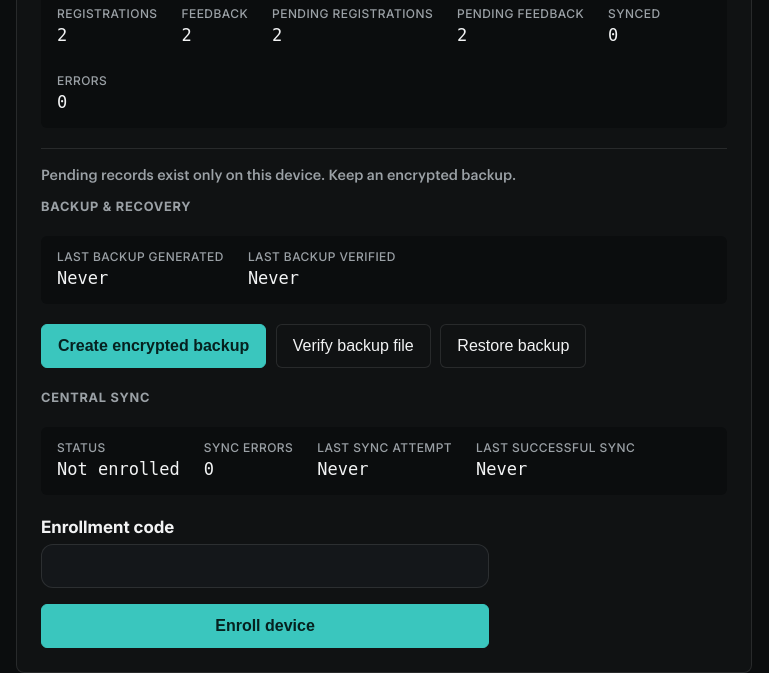
creating a backup › generates a file and records the time
(page scrolled)
Click the button "Create encrypted backup": (154, 346) [41,324,266,368]
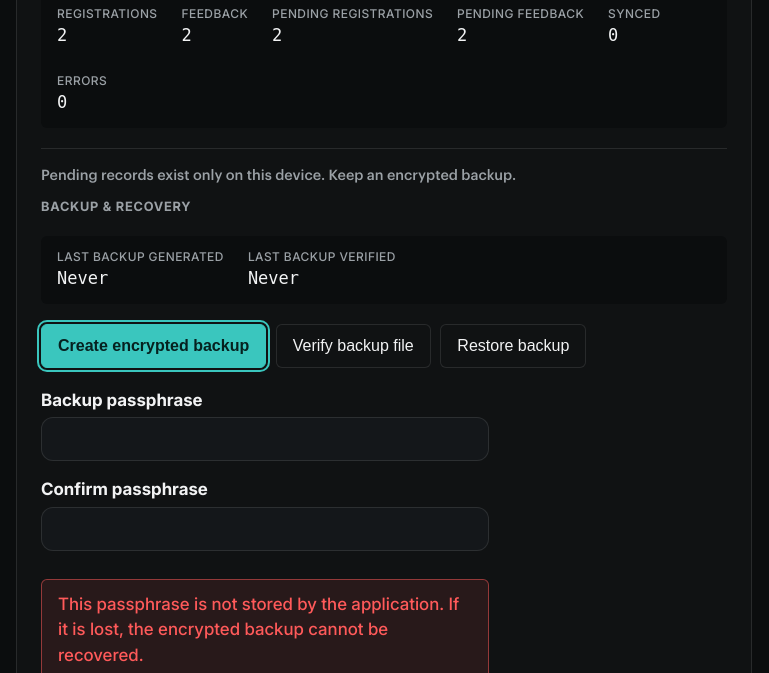
In the password field labelled "Backup passphrase": (265, 439) [41,417,489,461], type "a passphrase of sufficient length"
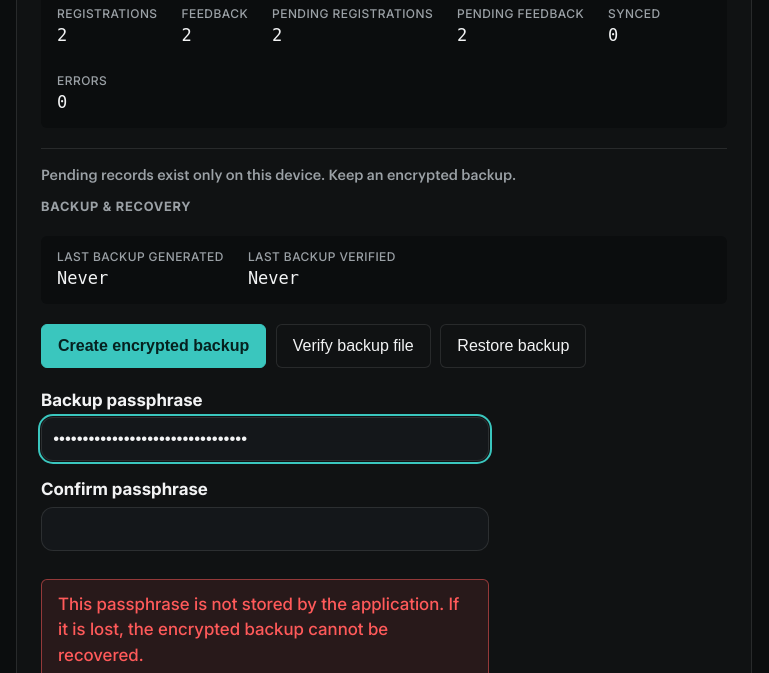
In the password field labelled "Confirm passphrase": (265, 529) [41,507,489,551], type "a passphrase of sufficient length"
(page scrolled)
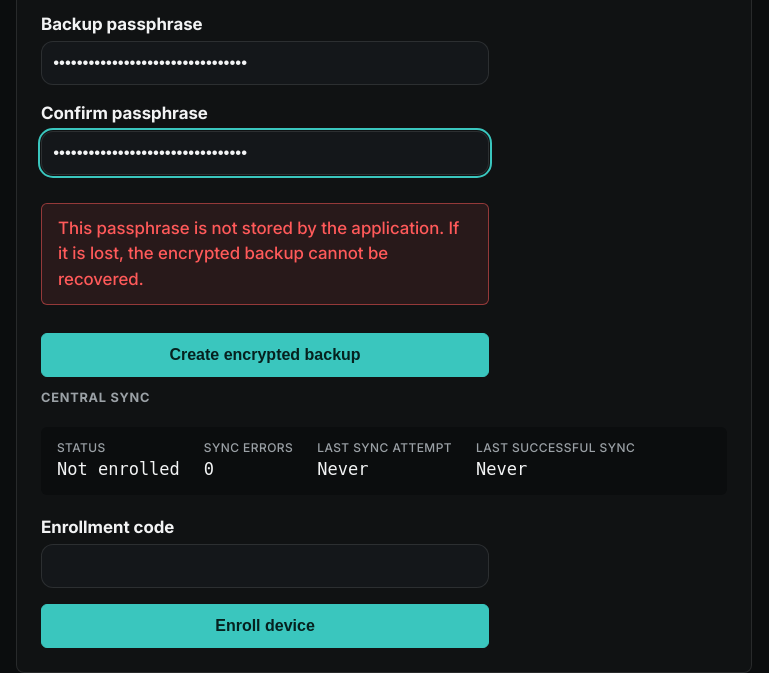
Click the button "Create encrypted backup" below "Confirm passphrase": (265, 355) [41,333,489,377]
(page scrolled)
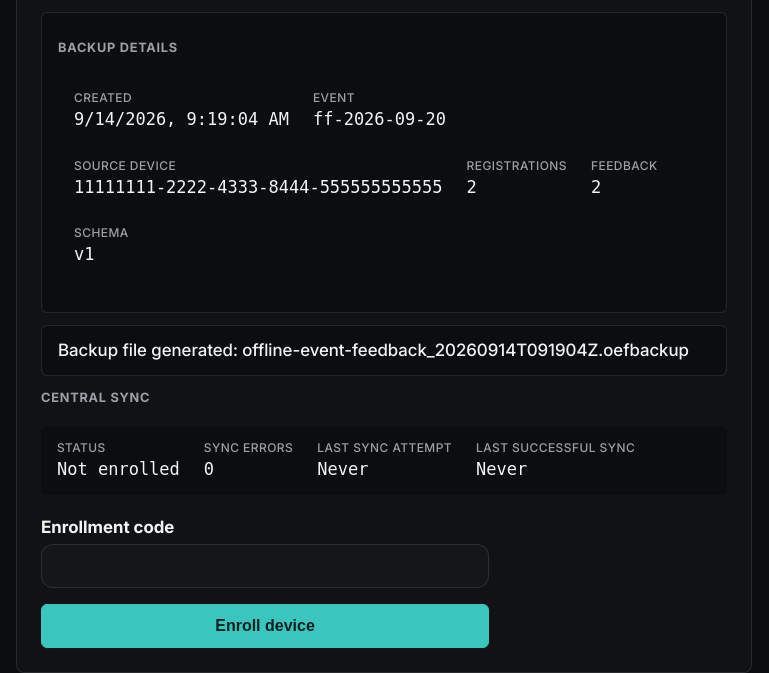
Now the message with test id "backup-message" shows "Backup file generated", box [58,340,689,360]
